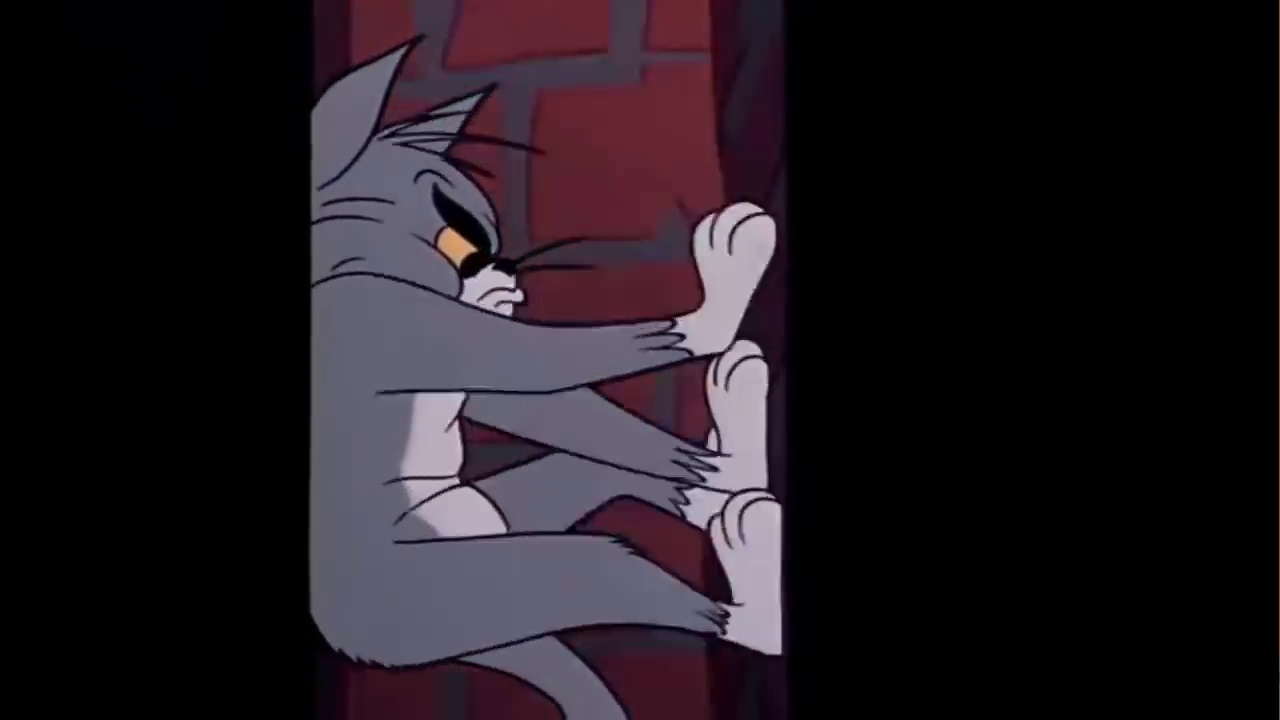face: (416, 170, 533, 322)
